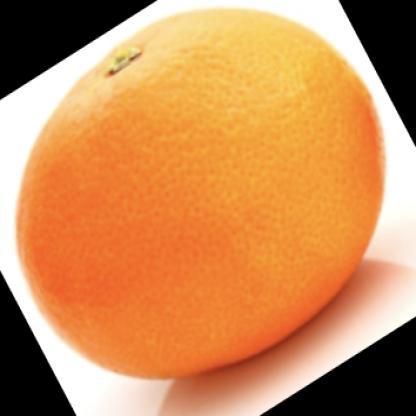fresh: (17, 6, 388, 384)
